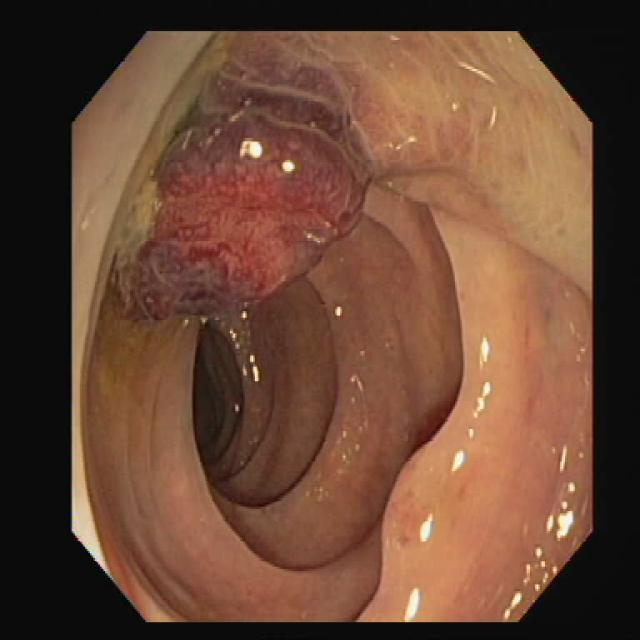tumor: (113, 98, 372, 318), (395, 444, 423, 540)
